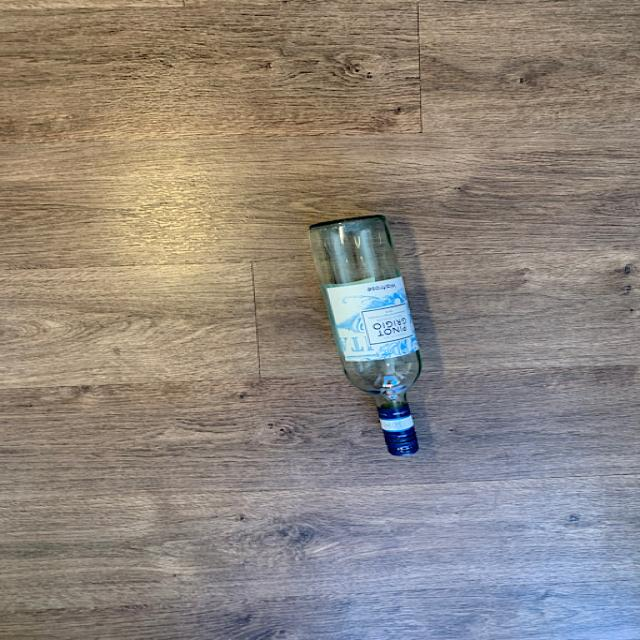litter: (306, 211, 432, 464)
